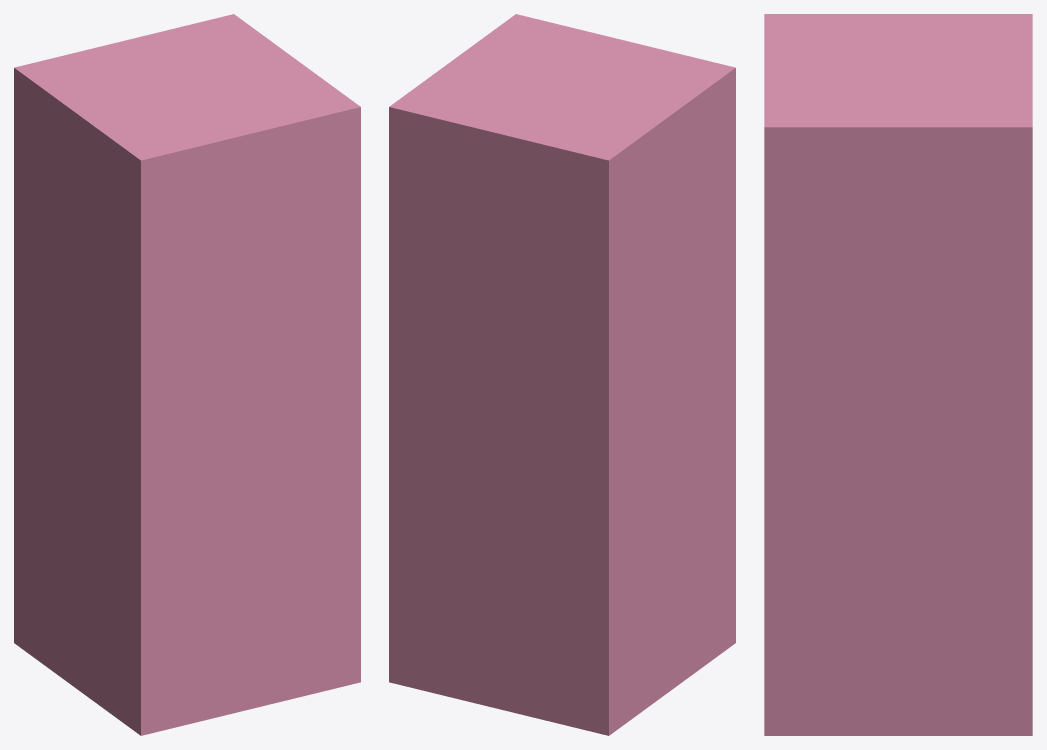
File: box_arm_left.obj
3 views of the same model, side by side, from view 1: azimuth 30°, elevation 25°; view 2: azimuth 150°, elevation 25°; view 3: azimuth 270°, elevation 25° (orthographic). The views are drawn at different scales.
Visible parts, largest first — view 1: Box004; view 2: Box004; view 3: Box004.
Part boxes in pixels (left/top/right/bottom): Box004: left=14, top=14, right=360, bottom=735; Box004: left=389, top=14, right=735, bottom=735; Box004: left=764, top=14, right=1032, bottom=735.
Bounding box in the file's own units: 1 × 2.5 × 1.
